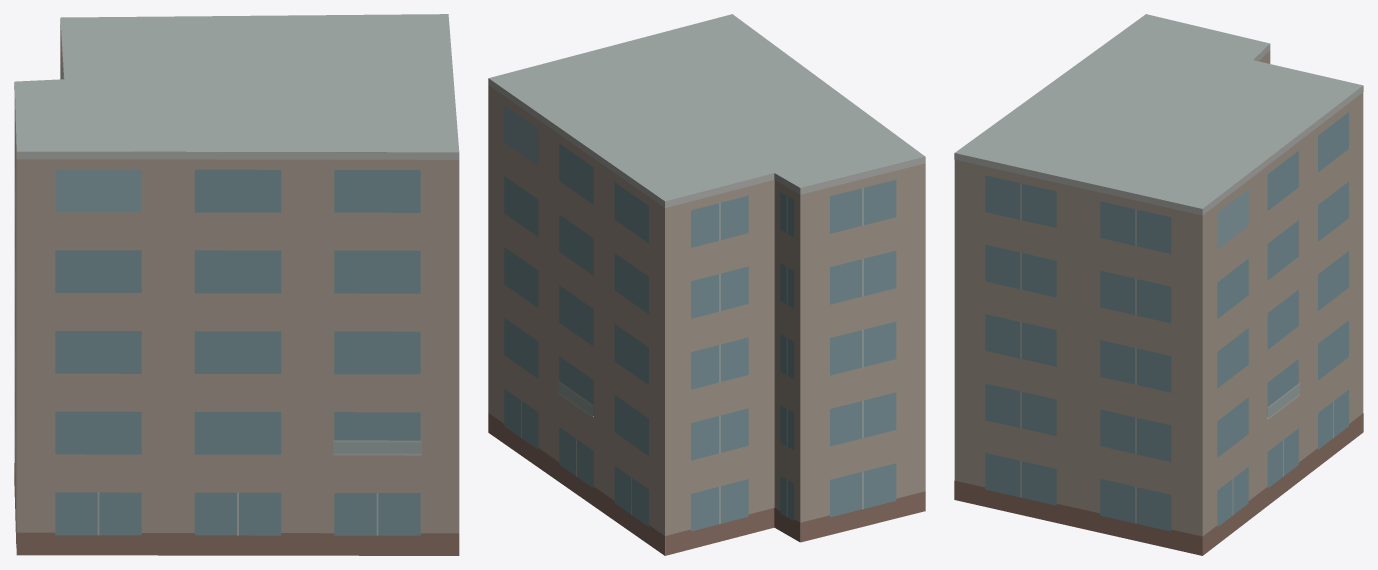
The model's file is survey-upis-32930940.glb.
3 views of the same model, side by side, from view 1: azimuth 30°, elevation 25°; view 2: azimuth 150°, elevation 25°; view 3: azimuth 270°, elevation 25° (orthographic). The views are drawn at different scales.
Parts seen in each view (by area): view 1: survey-upis-32930940.tmp; view 2: survey-upis-32930940.tmp; view 3: survey-upis-32930940.tmp.
Boxes of the visible parts, bbox=[...] form: survey-upis-32930940.tmp: bbox=[14, 14, 459, 555]; survey-upis-32930940.tmp: bbox=[488, 14, 925, 555]; survey-upis-32930940.tmp: bbox=[954, 14, 1363, 555].
Size of the model in its own units: 15.52 by 12.87 by 13.76.
